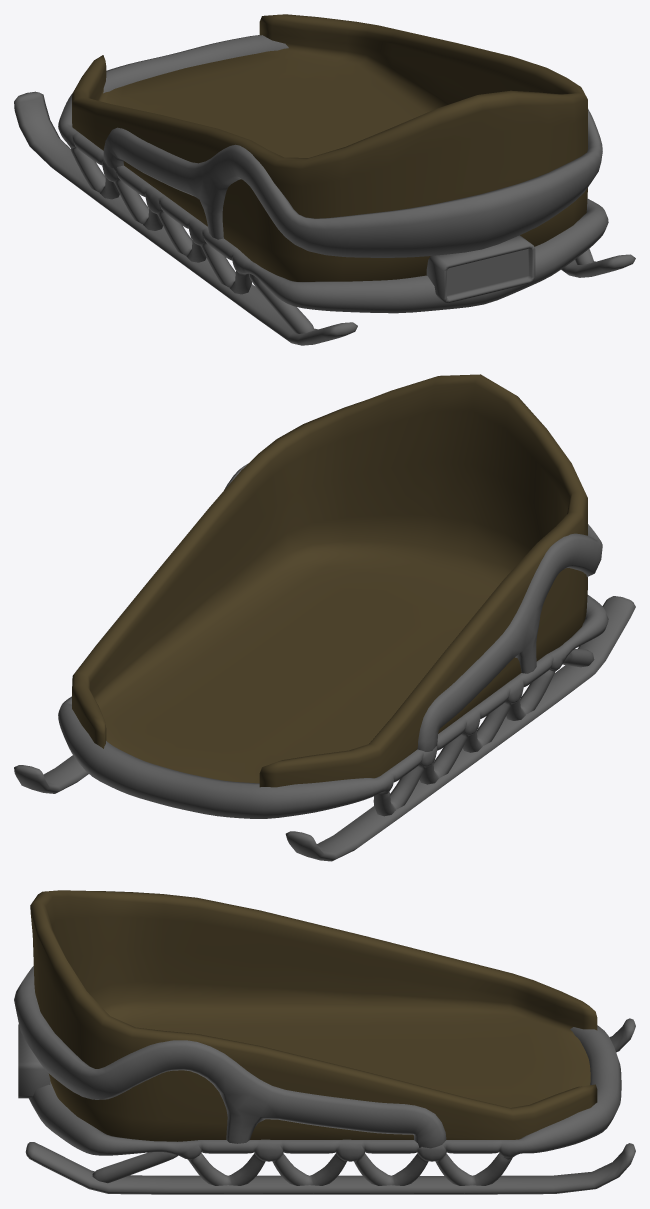
The model's file is BasicSled.glb.
The picture shows the model from 3 angles, top to bottom: view 1: azimuth 30°, elevation 25°; view 2: azimuth 150°, elevation 25°; view 3: azimuth 270°, elevation 25°; orthographic projection. The views are drawn at different scales.
Visible parts, largest first — view 1: Plane, Trim1, Trim2, Treds, LicensePlate; view 2: Plane, Trim2, Treds, Trim1; view 3: Plane, Trim2, Trim1, Treds, LicensePlate.
Part boxes in pixels (x1,y1,x2,y2): Plane: (72, 14, 587, 281); Trim1: (103, 109, 602, 257); Trim2: (58, 35, 608, 333); Treds: (14, 91, 635, 345); LicensePlate: (426, 235, 535, 303); Plane: (72, 374, 587, 787); Trim2: (58, 595, 608, 818); Treds: (14, 596, 635, 861); Trim1: (224, 463, 602, 751); Plane: (30, 890, 597, 1141); Trim2: (29, 1025, 621, 1185); Trim1: (14, 966, 446, 1148); Treds: (25, 1018, 635, 1194); LicensePlate: (18, 1024, 50, 1098).
Bounding box in the file's own units: 4.2 × 2.95 × 7.35.
